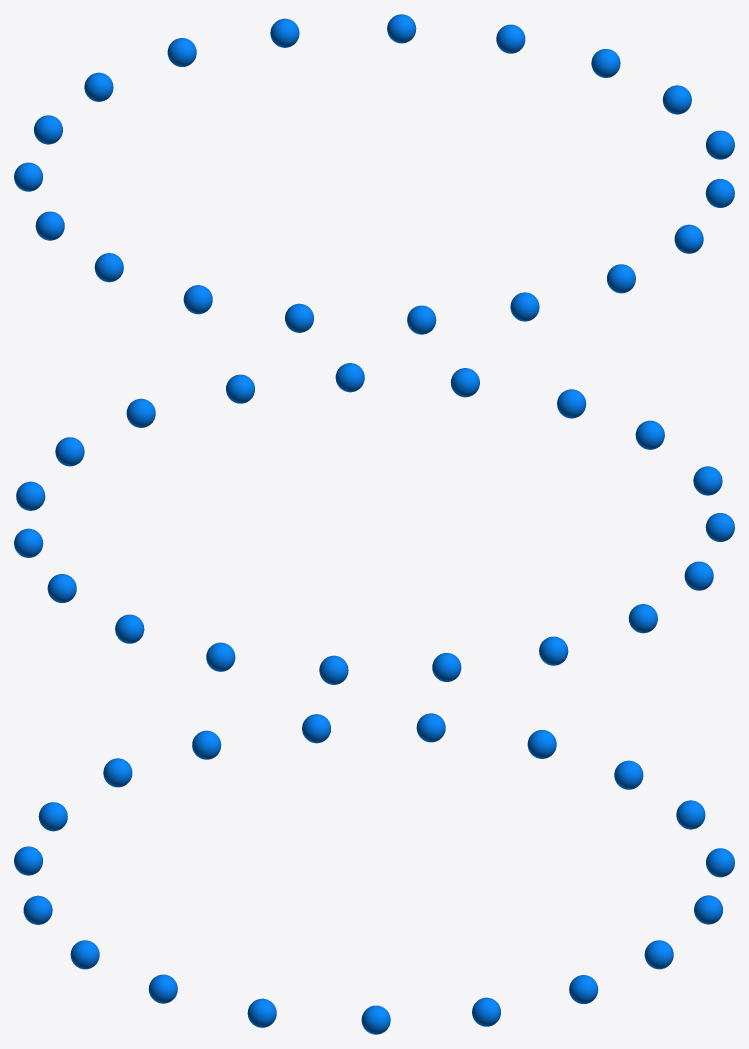
The picture shows the model from 3 angles, top to bottom: view 1: azimuth 30°, elevation 25°; view 2: azimuth 150°, elevation 25°; view 3: azimuth 270°, elevation 25°; orthographic projection.
Parts seen in each view (by area): view 1: Sphere052; view 2: Sphere052; view 3: Sphere052.
Part boxes in pixels (<box>): Sphere052: <box>14,14,734,334</box>; Sphere052: <box>14,363,734,684</box>; Sphere052: <box>14,713,734,1034</box>.
Size of the model in its own units: 203 by 8.22 by 203.
